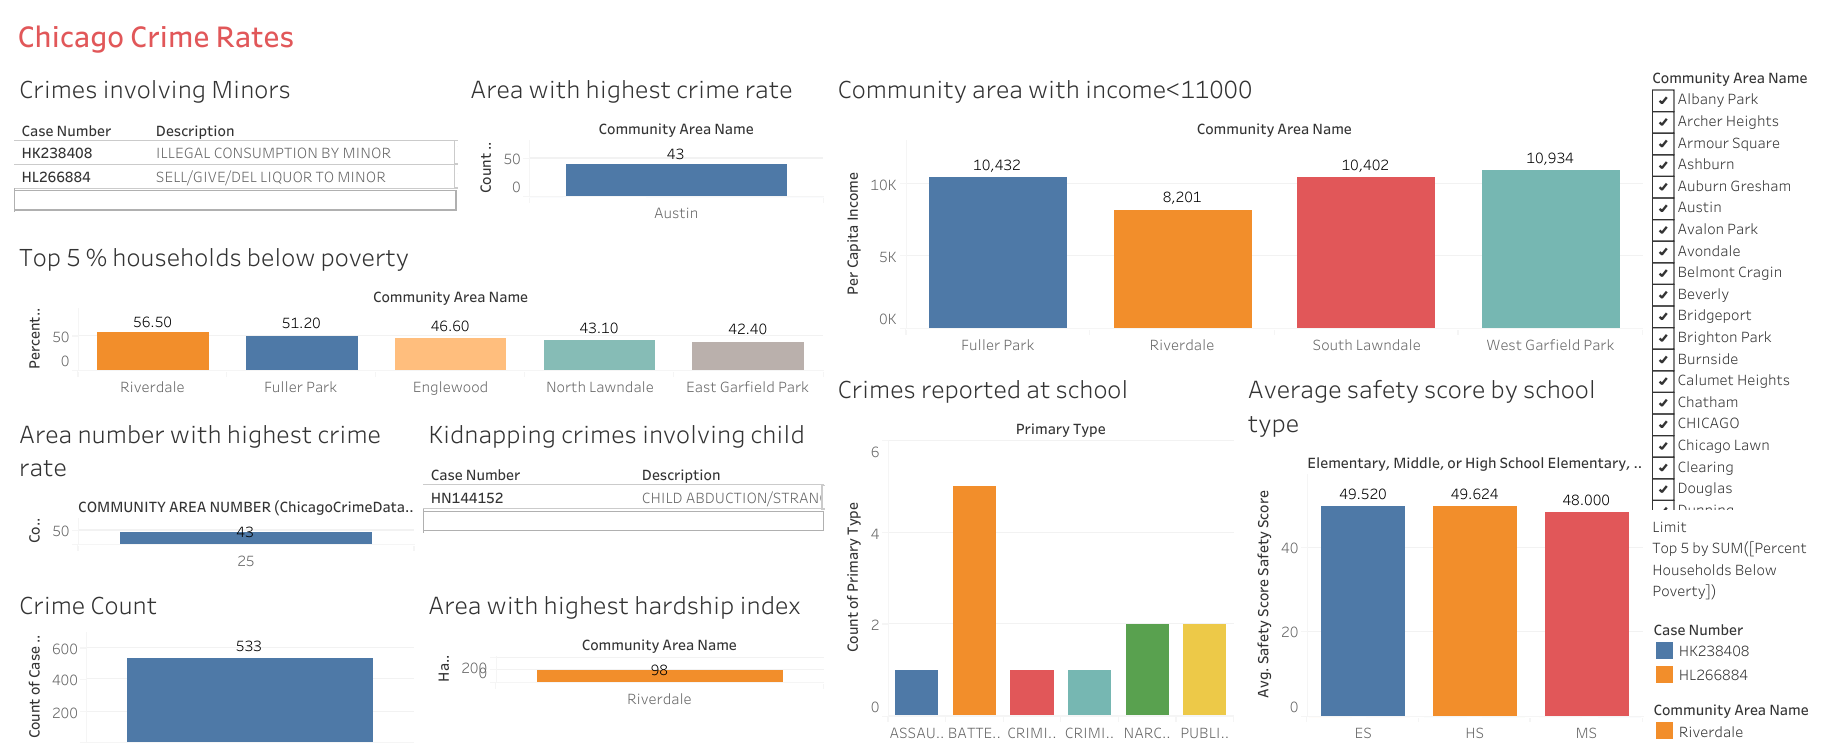

This screenshot's page, from the dashboard's own definition file:
{"tool":"tableau","page":{"name":"Chicago Crime rate dashboard","canvas":[1000,1000],"units":"permille","ordinal":0},"visuals":[{"type":"title","box":[5,9.1,990,66.1]},{"type":"worksheet","title":"Crimes involving Minors","mark":"Automatic","rows":["CASE_NUMBER","DESCRIPTION","PRIMARY_TYPE"],"box":[5,75.2,245,223.2]},{"type":"worksheet","title":"Area with highest crime rate","mark":"Automatic","rows":["CASE_NUMBER"],"cols":["COMMUNITY_AREA_NAME"],"box":[250,75.2,200.1,223.2]},{"type":"worksheet","title":"Community area with income<11000","mark":"Automatic","rows":["PER_CAPITA_INCOME"],"cols":["COMMUNITY_AREA_NAME"],"box":[450.1,75.2,445.1,399.4]},{"type":"filter","title":"Top 5 % households below poverty","param":"[federated.0yvv18h1kpq7ex15it4j01pkeken].[none:COMMUNITY_AREA_NAME:nk]","box":[895.3,75.2,99.8,752.9]},{"type":"worksheet","title":"Top 5 % households below poverty","mark":"Automatic","rows":["PERCENT_HOUSEHOLDS_BELOW_POVERTY"],"cols":["COMMUNITY_AREA_NAME"],"box":[5,298.4,445.1,234.6]},{"type":"worksheet","title":"Crimes reported at school","mark":"Automatic","rows":["PRIMARY_TYPE"],"cols":["PRIMARY_TYPE"],"box":[450.1,474.6,222.6,516.3]},{"type":"worksheet","title":"Average safety score by school type","mark":"Automatic","rows":["SAFETY_SCORE SAFETY_SCORE"],"cols":["Elementary, Middle, or High School Elementary, Middle, or Hi"],"box":[672.7,474.6,222.6,516.3]},{"type":"worksheet","title":"Area number with highest crime rate","mark":"Automatic","rows":["CASE_NUMBER"],"cols":["COMMUNITY_AREA_NUMBER (ChicagoCrimeData.csv)"],"box":[5,533,222.6,228.9]},{"type":"worksheet","title":"Kidnapping crimes involving child","mark":"Automatic","rows":["CASE_NUMBER","DESCRIPTION"],"box":[227.6,533,222.6,228.9]},{"type":"worksheet","title":"Crime Count","mark":"Automatic","rows":["CASE_NUMBER"],"box":[5,762,222.6,228.9]},{"type":"worksheet","title":"Area with highest hardship index","mark":"Automatic","rows":["HARDSHIP_INDEX"],"cols":["COMMUNITY_AREA_NAME"],"box":[227.6,762,222.6,228.9]},{"type":"legend","title":"Crimes involving Minors","param":"[federated.0yvv18h1kpq7ex15it4j01pkeken].[none:CASE_NUMBER:nk]","box":[895.3,828,99.8,95.7]},{"type":"legend","title":"Area with highest hardship index","param":"[federated.0yvv18h1kpq7ex15it4j01pkeken].[none:COMMUNITY_AREA_NAME:nk]","box":[895.3,923.7,99.8,67.2]}]}

Visuals, with their boxes on the dashboard's canvas, which has no fixed pixel size, in thousandths of its width and height (x1, y1, x2, y2). These are canvas units, not pixel positions in the 1848x756 screenshot, which may show the page scaled, cropped or inside an application window:
title: 5, 9, 995, 75
"Crimes involving Minors" worksheet: 5, 75, 250, 298
"Area with highest crime rate" worksheet: 250, 75, 450, 298
"Community area with income<11000" worksheet: 450, 75, 895, 475
"Top 5 % households below poverty" filter: 895, 75, 995, 828
"Top 5 % households below poverty" worksheet: 5, 298, 450, 533
"Crimes reported at school" worksheet: 450, 475, 673, 991
"Average safety score by school type" worksheet: 673, 475, 895, 991
"Area number with highest crime rate" worksheet: 5, 533, 228, 762
"Kidnapping crimes involving child" worksheet: 228, 533, 450, 762
"Crime Count" worksheet: 5, 762, 228, 991
"Area with highest hardship index" worksheet: 228, 762, 450, 991
"Crimes involving Minors" legend: 895, 828, 995, 924
"Area with highest hardship index" legend: 895, 924, 995, 991
